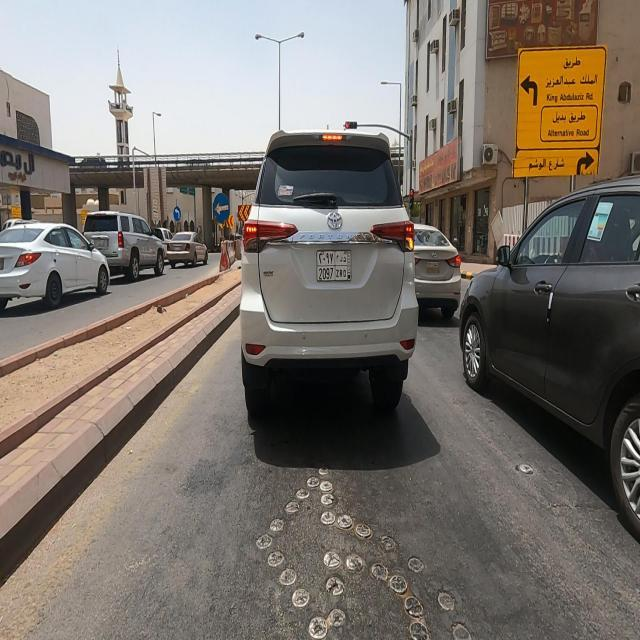debris: (371, 86, 496, 252), (202, 172, 242, 244), (141, 282, 177, 337)
